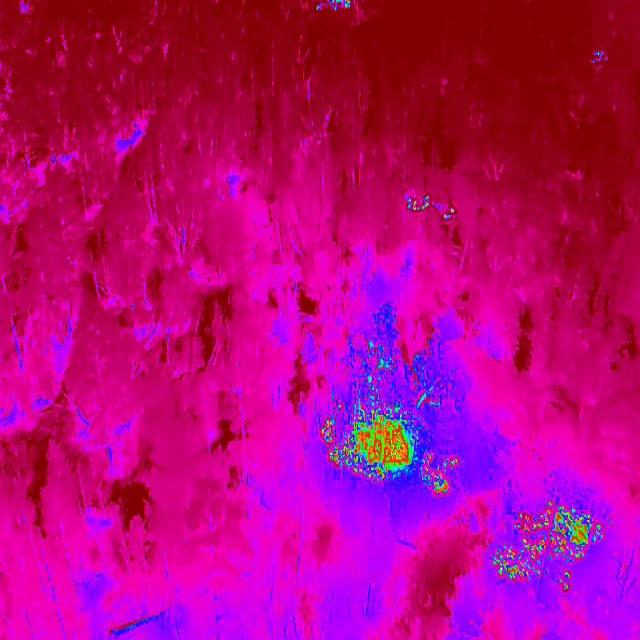fire: (488, 500, 602, 594), (322, 404, 418, 484), (421, 452, 459, 497), (402, 193, 458, 223), (315, 0, 352, 12)
